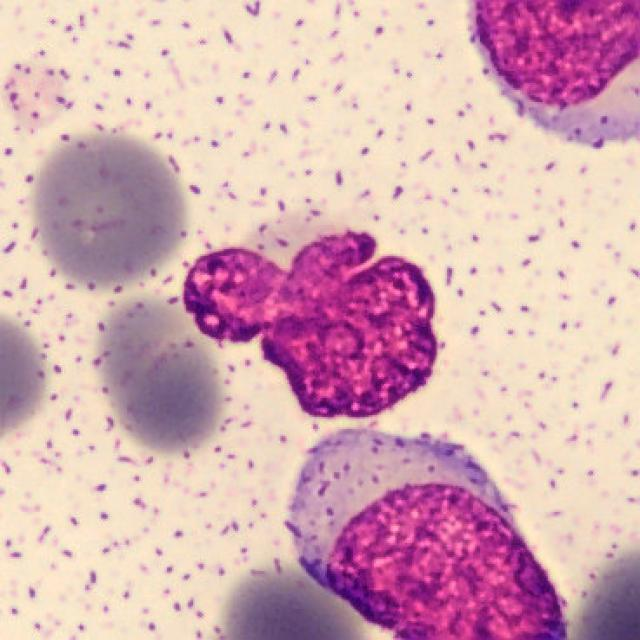Mieloblasto: (283, 427, 567, 640), (181, 234, 442, 424)
